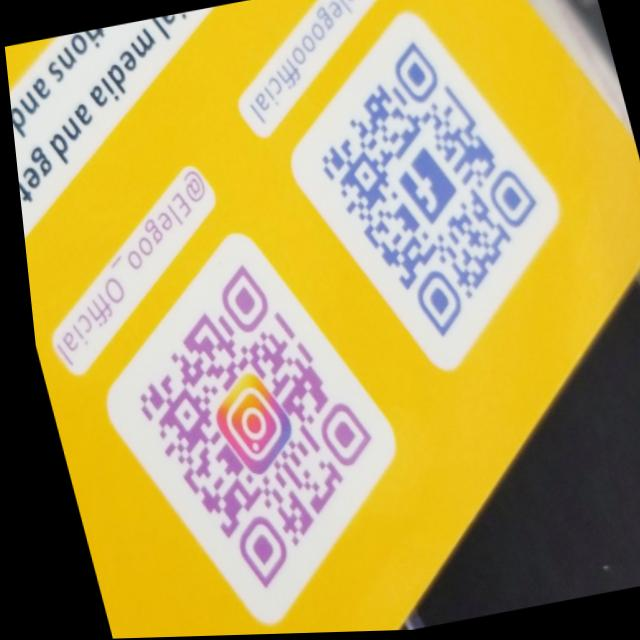QR_CODE: (77, 212, 408, 623), (280, 13, 575, 366)
